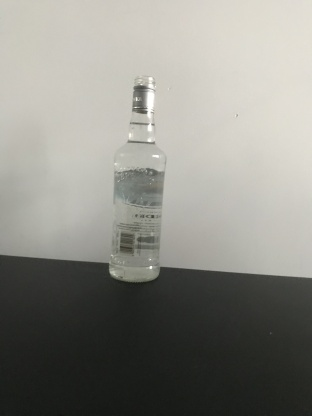nakretka: (130, 75, 157, 115)
